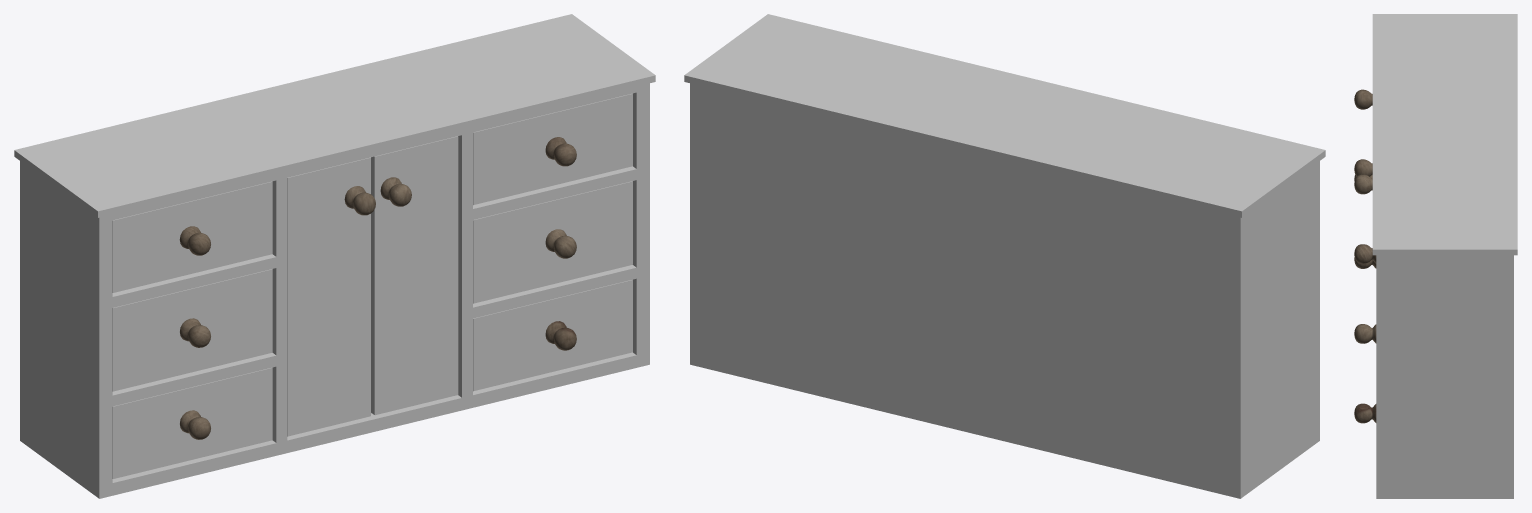
File: LivingRoomDresserComplete.fbx
3 views of the same model, side by side, from view 1: azimuth 30°, elevation 25°; view 2: azimuth 150°, elevation 25°; view 3: azimuth 270°, elevation 25° (orthographic). The views are drawn at different scales.
Visible parts, largest first — view 1: LivingRoomDresser.002, LivingRoomDresser, LivingRoomDresser.001, LivingRoomDresserKnobs; view 2: LivingRoomDresser.001, LivingRoomDresser; view 3: LivingRoomDresser, LivingRoomDresser.001, LivingRoomDresserKnobs.
Boxes of the visible parts, x1,y1,x2,y2 form: LivingRoomDresser.002: (99, 83, 649, 478); LivingRoomDresser: (14, 14, 655, 498); LivingRoomDresser.001: (20, 161, 99, 498); LivingRoomDresserKnobs: (179, 137, 576, 439); LivingRoomDresser.001: (690, 83, 1319, 498); LivingRoomDresser: (684, 14, 1325, 217); LivingRoomDresser: (1372, 14, 1517, 255); LivingRoomDresser.001: (1376, 255, 1513, 498); LivingRoomDresserKnobs: (1354, 89, 1376, 423).
Bounding box in the file's own units: 405 × 201 × 119.
